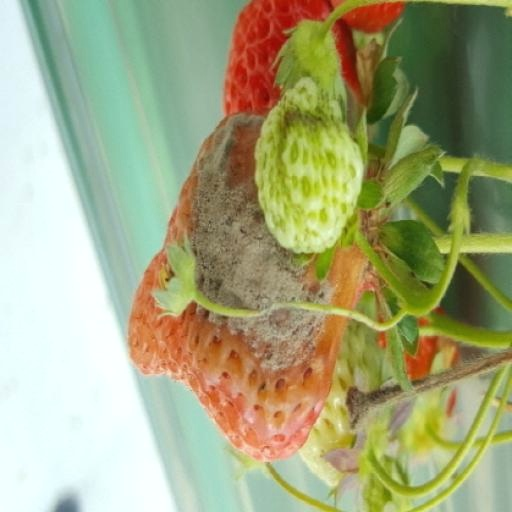Gray Mold: (146, 112, 349, 432)
